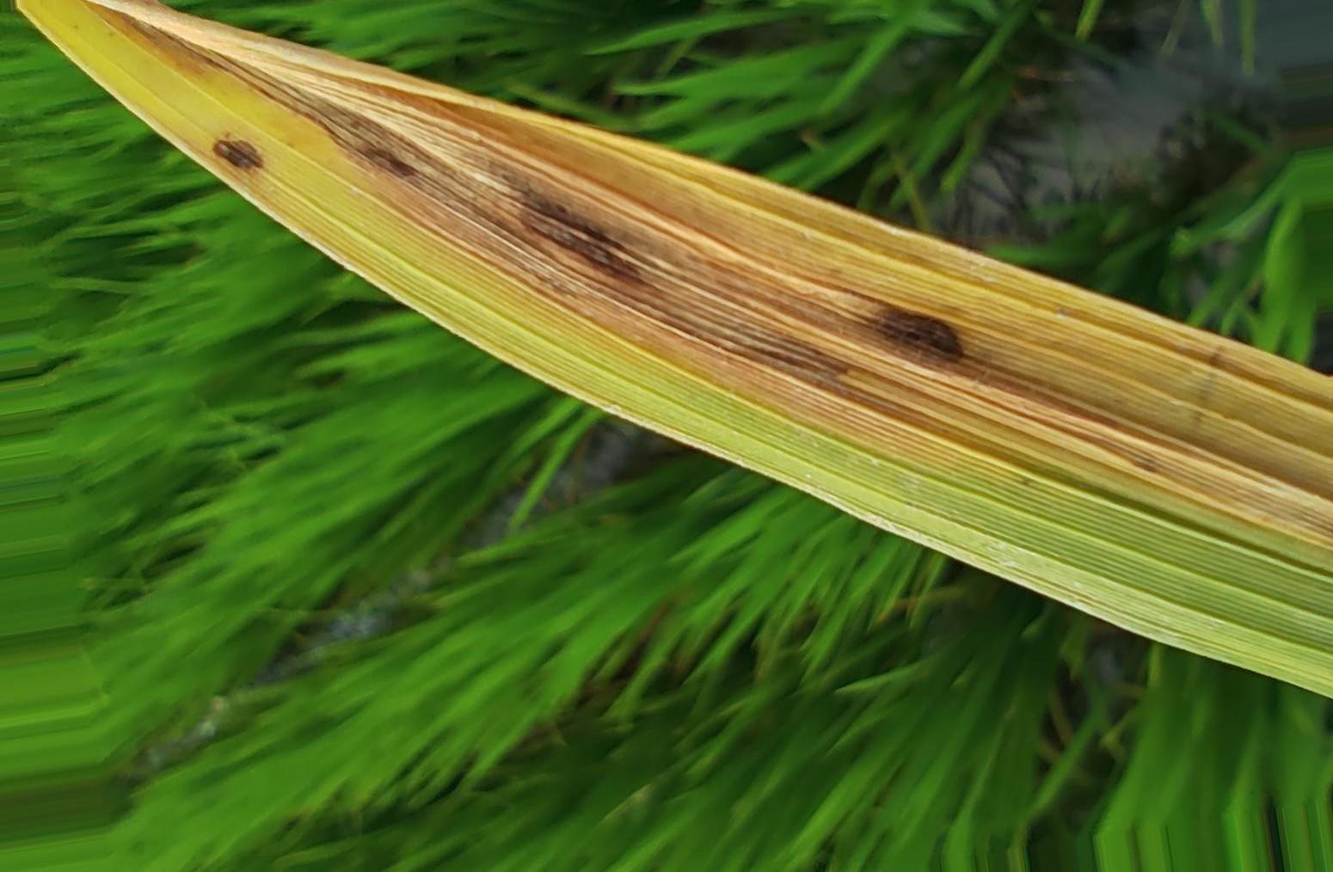LEAF: (16, 0, 1332, 695)
LEAF BLAST: (523, 193, 636, 277), (882, 310, 962, 360), (206, 124, 269, 176)
